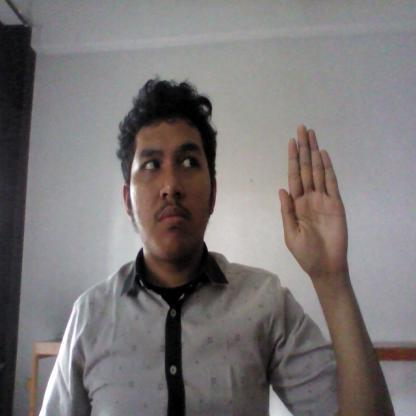Halo: (272, 120, 355, 282)
